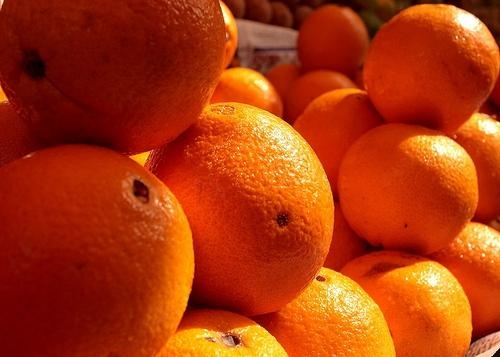orange: (0, 144, 195, 357), (144, 102, 334, 316), (0, 0, 226, 157), (338, 123, 478, 256), (362, 3, 494, 136), (338, 249, 473, 356), (246, 266, 396, 357), (292, 87, 386, 201), (420, 221, 500, 347), (156, 308, 289, 357), (445, 113, 500, 225), (296, 4, 368, 77), (285, 68, 362, 126), (206, 68, 284, 121), (1, 101, 56, 167), (322, 200, 372, 272), (265, 63, 304, 106), (219, 0, 239, 71), (349, 58, 366, 91), (488, 71, 500, 111)
